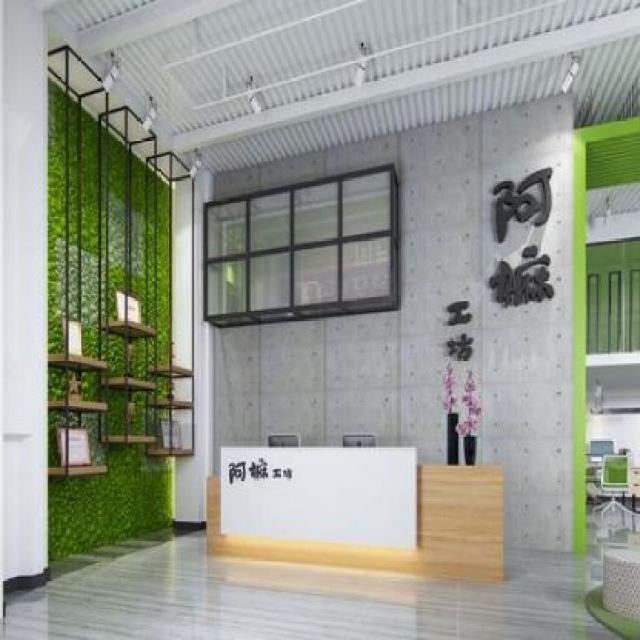frontdesk: (198, 435, 510, 593)
